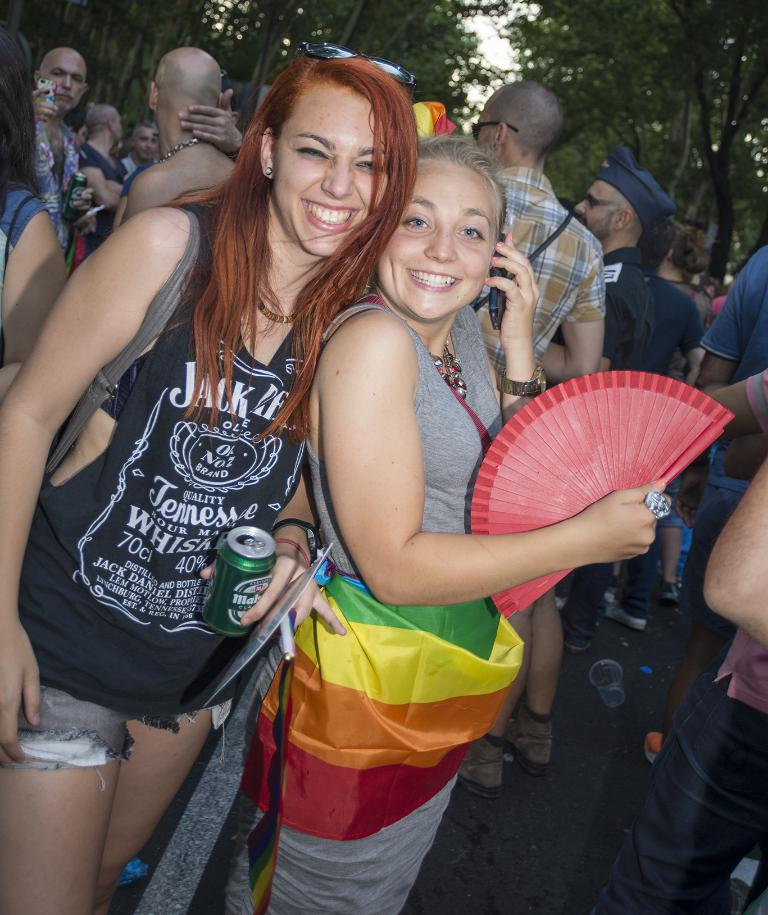Person: (0, 24, 768, 915)
